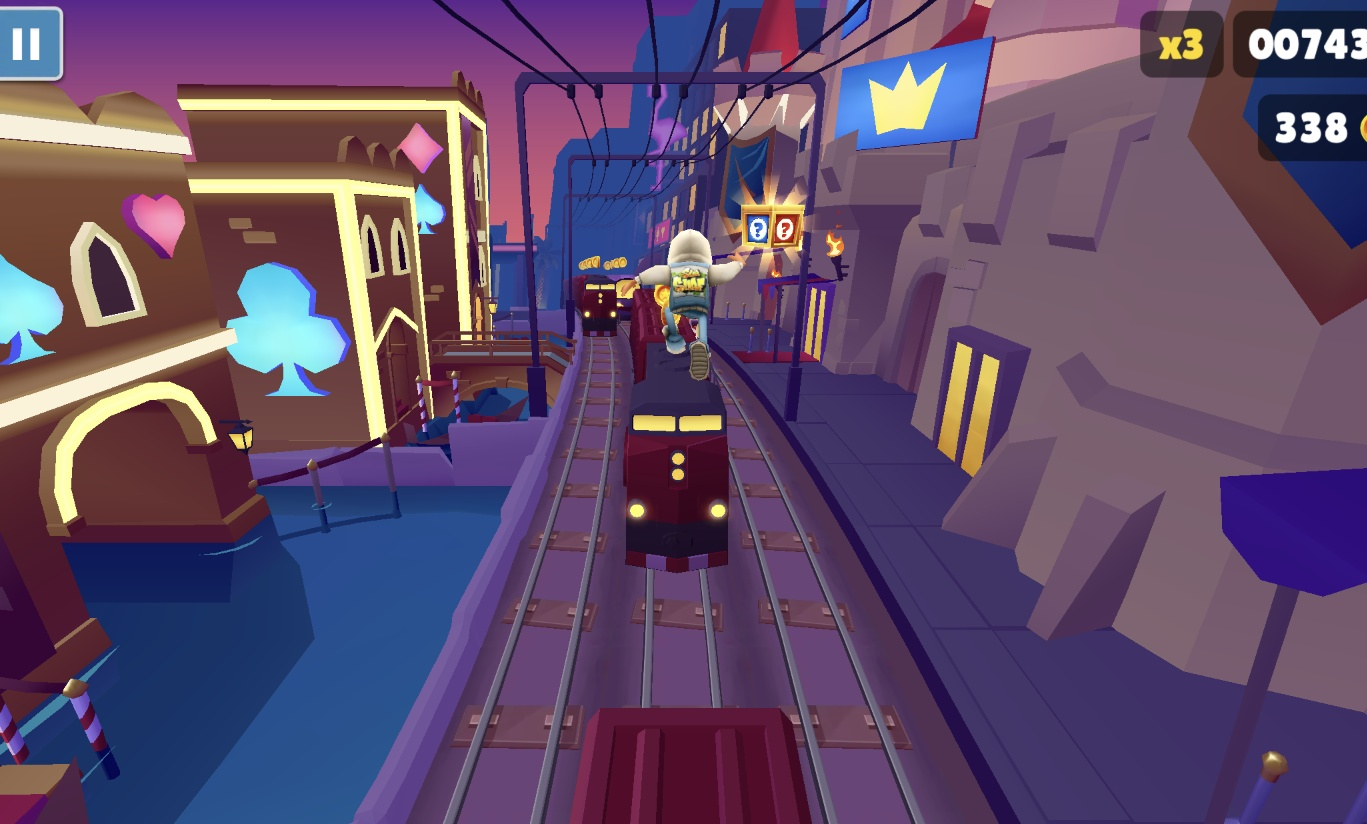train: (622, 286, 730, 573), (571, 707, 812, 824), (575, 274, 623, 337)
